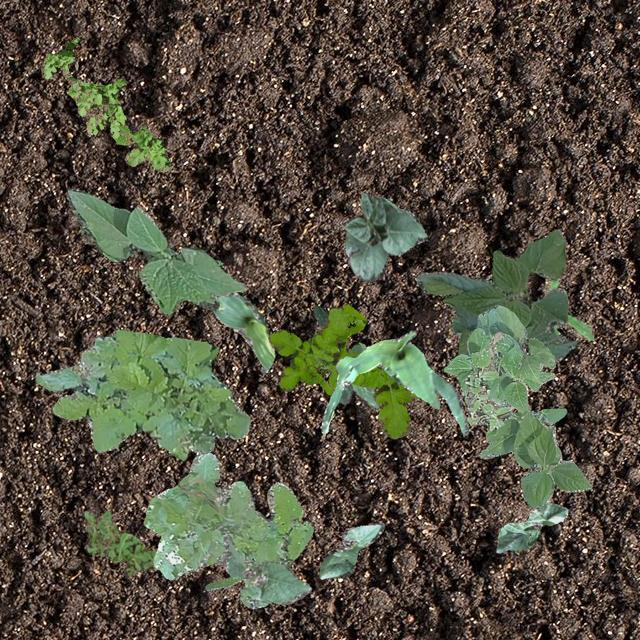crop: (66, 188, 246, 314), (416, 228, 576, 360), (320, 330, 468, 436), (442, 304, 554, 412), (478, 408, 590, 508), (340, 192, 426, 282), (222, 534, 310, 604), (212, 292, 274, 372), (317, 520, 383, 578), (496, 502, 566, 552)
weed: (34, 328, 248, 459), (142, 452, 312, 608), (267, 304, 418, 438), (39, 36, 170, 170), (312, 304, 378, 408), (82, 508, 156, 576), (464, 330, 511, 430), (544, 276, 593, 341), (464, 386, 506, 411), (204, 576, 242, 590)
